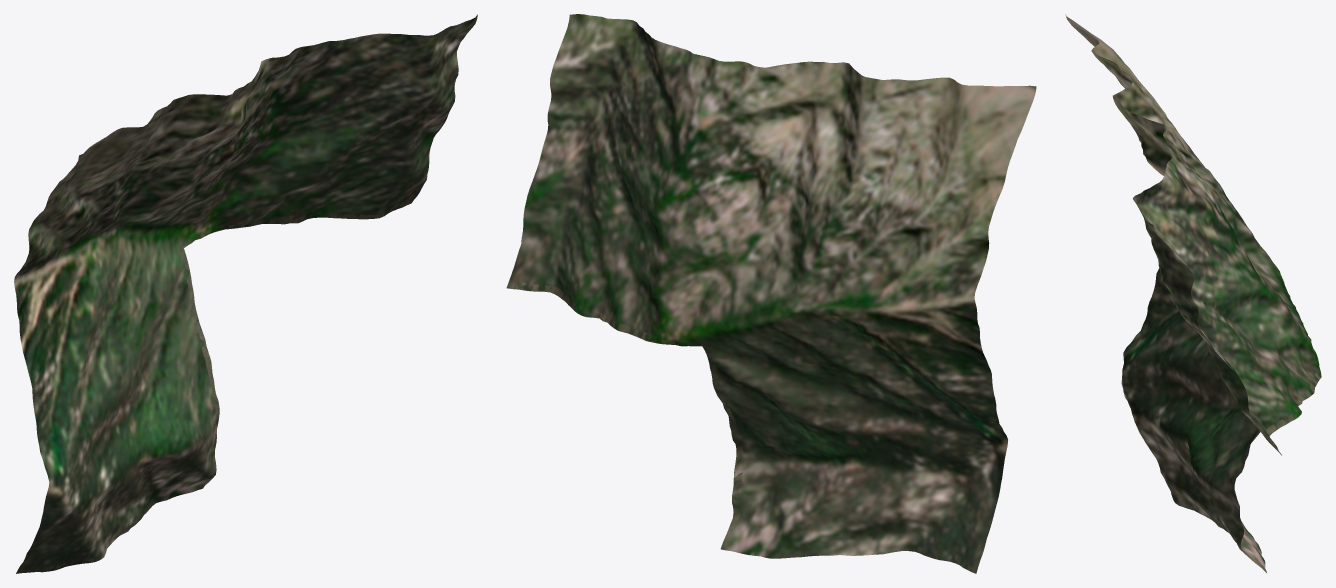
The model's file is ground_far_01_02.obj.
The picture shows the model from 3 angles, left to right: view 1: azimuth 30°, elevation 25°; view 2: azimuth 150°, elevation 25°; view 3: azimuth 270°, elevation 25°; orthographic projection. The views are drawn at different scales.
Visible parts, largest first — view 1: ground_far_01_02; view 2: ground_far_01_02; view 3: ground_far_01_02.
Boxes of the visible parts, left/top/right/bottom form: ground_far_01_02: left=14, top=14, right=477, bottom=573; ground_far_01_02: left=506, top=14, right=1036, bottom=573; ground_far_01_02: left=1065, top=14, right=1321, bottom=572.
Size of the model in its own units: 2000 by 2000 by 1027.
Materials: 1 (1 with a texture image).
